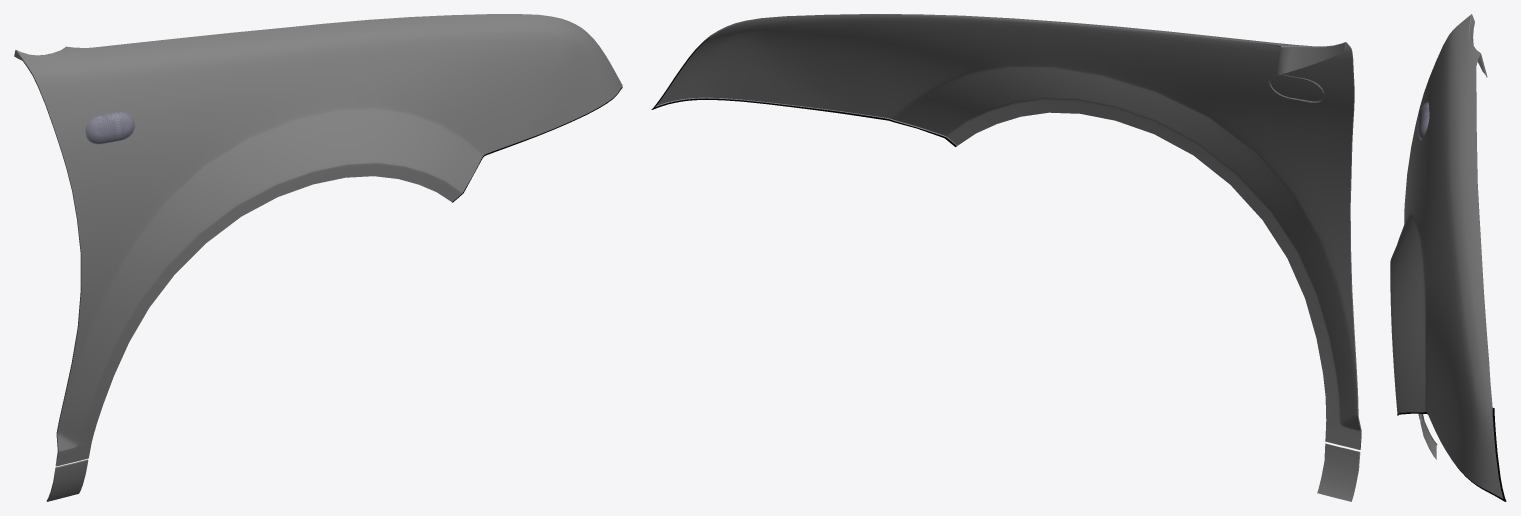
3 views of the same model, side by side, from view 1: azimuth 30°, elevation 25°; view 2: azimuth 150°, elevation 25°; view 3: azimuth 270°, elevation 25° (orthographic). The views are drawn at different scales.
Visible parts, largest first — view 1: X6163_141B_R_X6163_141B_R_1_DaS, X6163_141B_R_X6163_141B_R_3_DTaSI, X6163_141B_R_X6163_141B_R_2_N, X6163_141B_R_X6163_141B_R_1_DaS_E; view 2: X6163_141B_R_X6163_141B_R_1_DaS, X6163_141B_R_X6163_141B_R_1_DaS_E, X6163_141B_R_4_D_X6163_141B_R; view 3: X6163_141B_R_X6163_141B_R_1_DaS, X6163_141B_R_X6163_141B_R_1_DaS_E, X6163_141B_R_4_D_X6163_141B_R, X6163_141B_R_X6163_141B_R_3_DTaSI, X6163_141B_R_X6163_141B_R_2_N.
Part boxes in pixels (box(x1,y1,x2,y2)): X6163_141B_R_X6163_141B_R_1_DaS: box(16, 14, 622, 501); X6163_141B_R_X6163_141B_R_3_DTaSI: box(85, 112, 135, 143); X6163_141B_R_X6163_141B_R_2_N: box(86, 112, 134, 143); X6163_141B_R_X6163_141B_R_1_DaS_E: box(14, 46, 87, 501); X6163_141B_R_X6163_141B_R_1_DaS: box(657, 14, 1360, 501); X6163_141B_R_X6163_141B_R_1_DaS_E: box(654, 14, 1361, 501); X6163_141B_R_4_D_X6163_141B_R: box(651, 37, 956, 146); X6163_141B_R_X6163_141B_R_1_DaS: box(1390, 14, 1502, 498); X6163_141B_R_X6163_141B_R_1_DaS_E: box(1397, 14, 1503, 498); X6163_141B_R_4_D_X6163_141B_R: box(1397, 408, 1506, 501); X6163_141B_R_X6163_141B_R_3_DTaSI: box(1417, 102, 1429, 140); X6163_141B_R_X6163_141B_R_2_N: box(1418, 103, 1429, 139).
Size of the model in its own units: 141 by 95.05 by 23.59.
